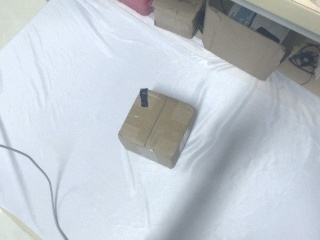box: (203, 1, 320, 82), (117, 89, 196, 169), (153, 1, 207, 39)
